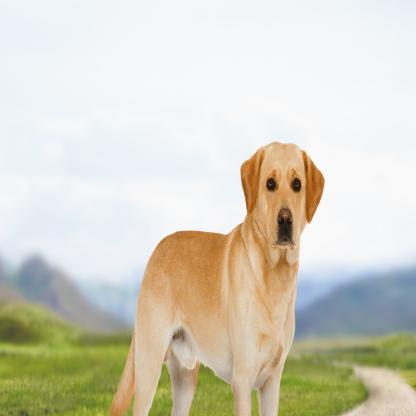Labarador Retriever: (109, 138, 327, 416)
